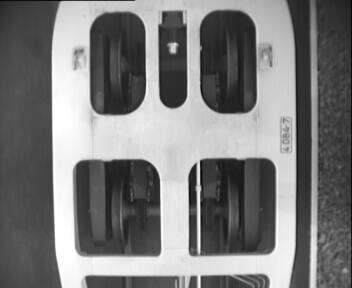wagon_scan: (78, 1, 267, 123)
